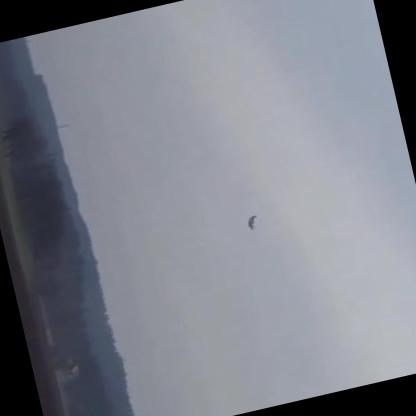plane: (244, 216, 259, 233)
